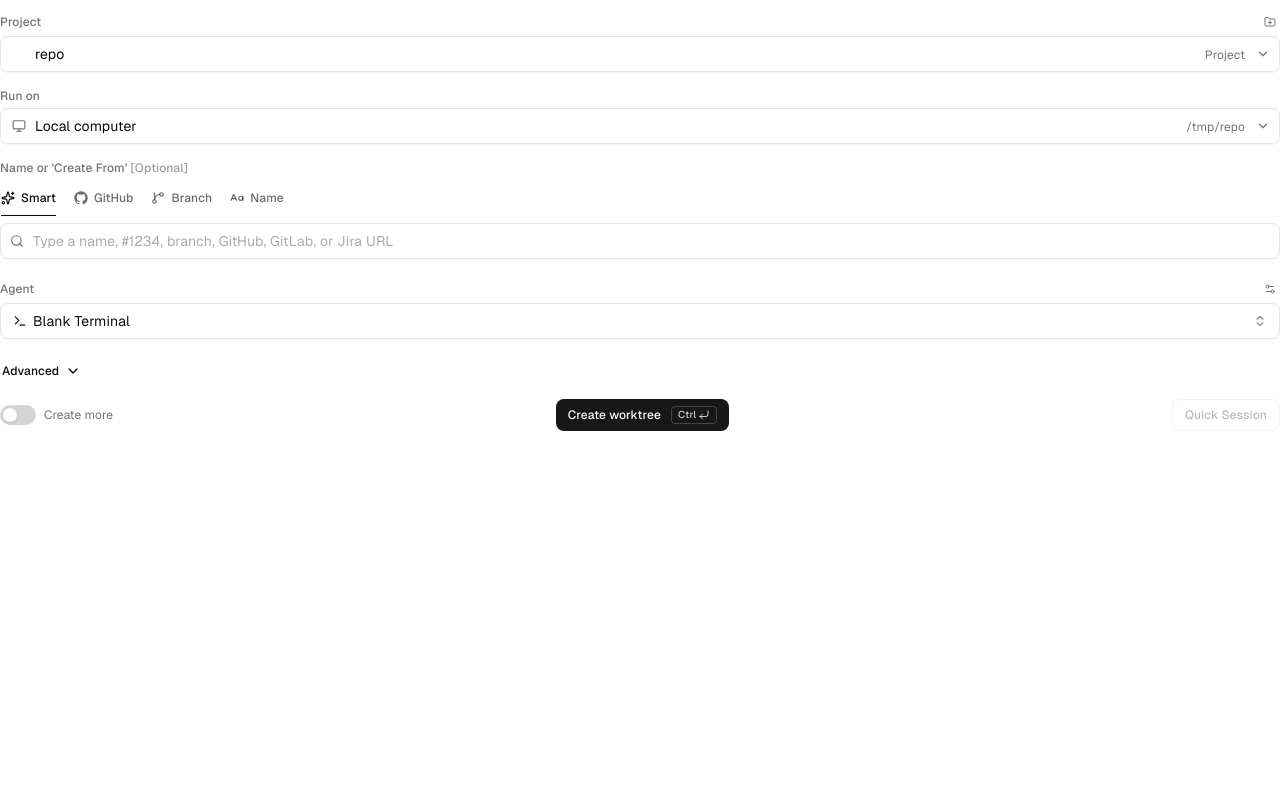
it: NewWorkspaceComposer submit (#316 unchanged daemon payload) › an invalid name blocks with the shared validation copy, no RPC
Type "has spaces" into the field with placeholder "Type a name, #1234, branch, GitHub, GitLab, or Jira URL" at (640, 241), box [0,223,1279,259]
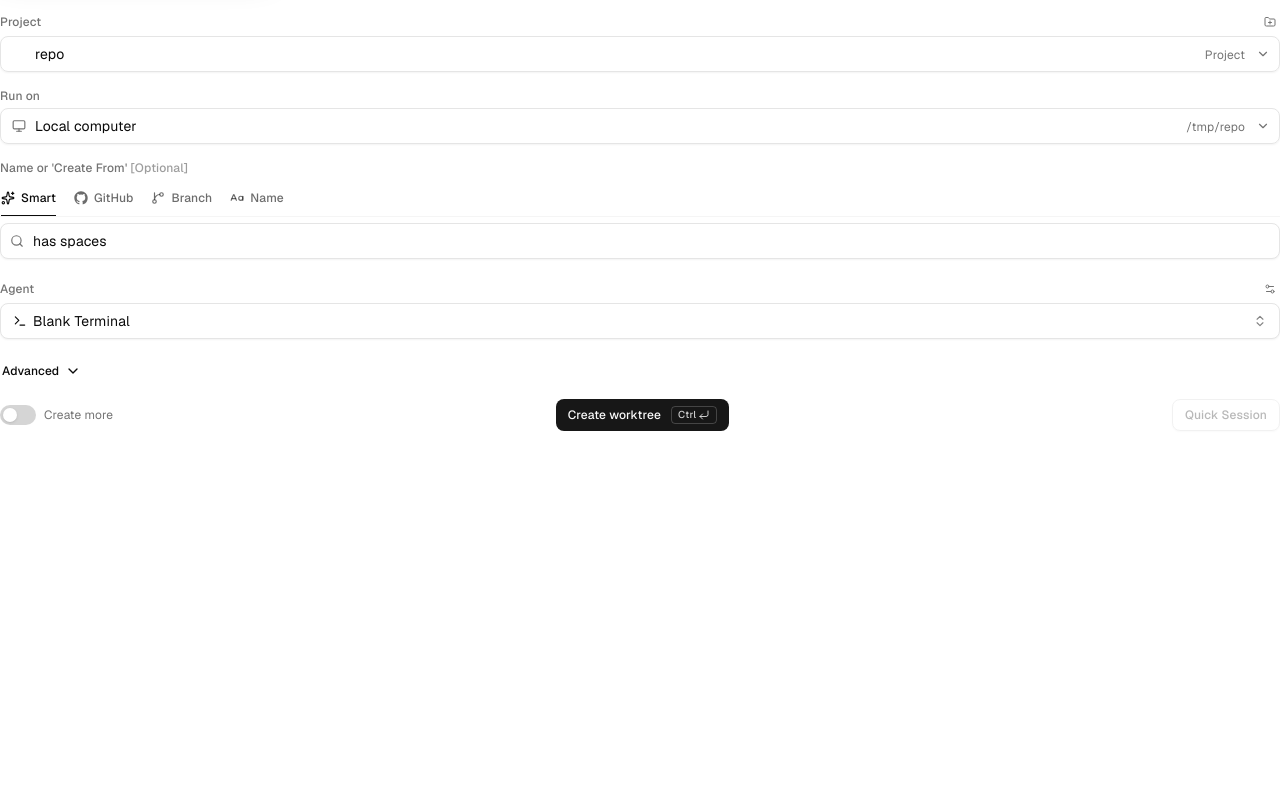
Click the button "Create worktree Ctrl" at (643, 415), box [556,399,729,431]
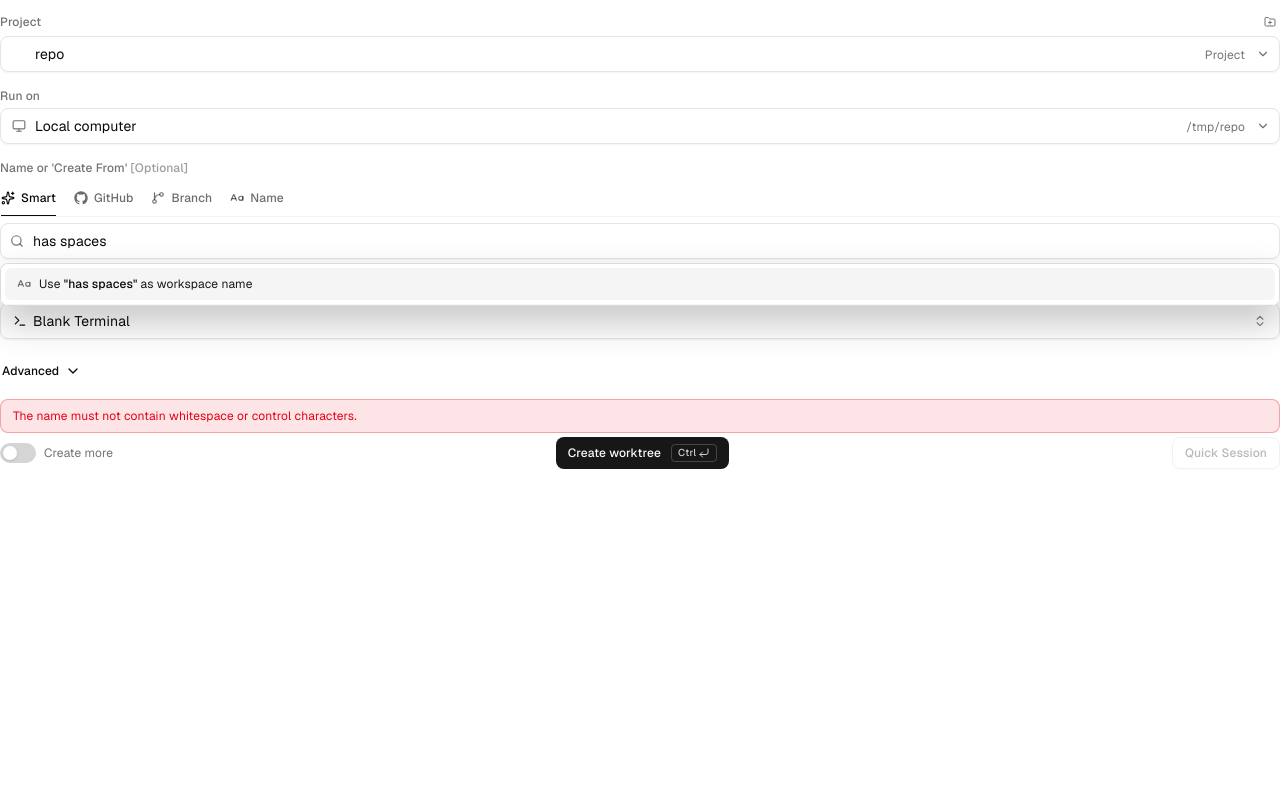
Expected: the message shows "whitespace", [13,408,357,424]
